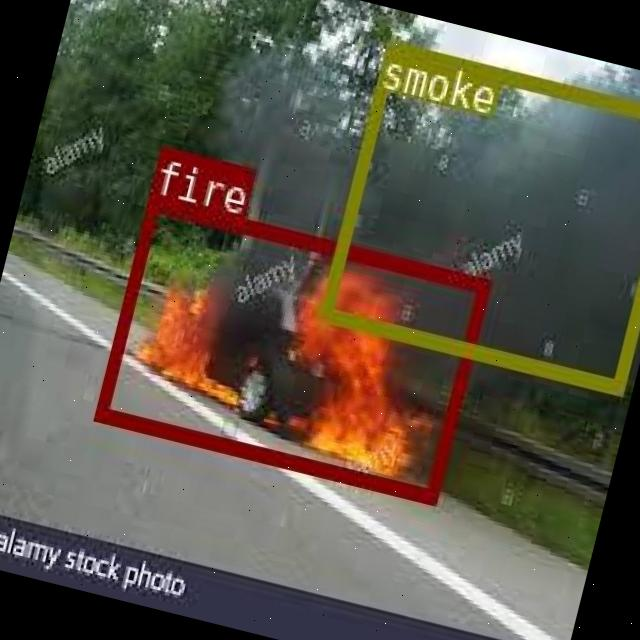fire: (93, 193, 490, 503)
smoke: (317, 37, 640, 391)
